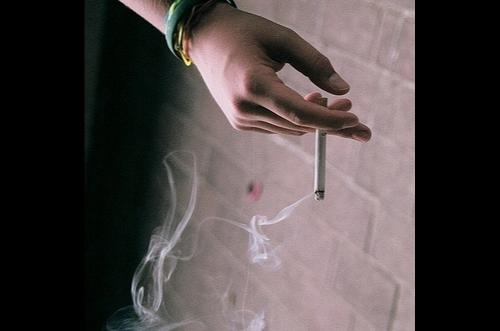Cigarette: (312, 95, 326, 200)
Smoke: (126, 225, 182, 331), (247, 200, 300, 264)
